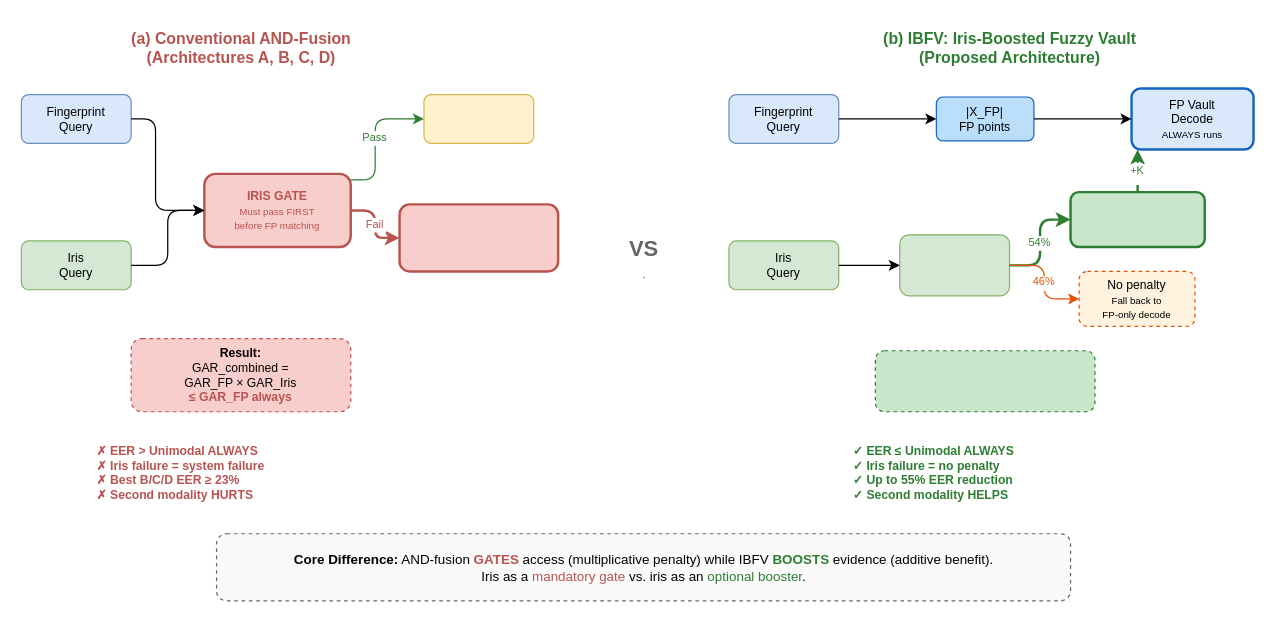
Image size: 1276x622. Some labels were removed from this diagram. The shapes that lost their labels are listed below. From the top down, each one's box as (x1, y1, x2, y2) in pixels, then its label:
(423, 93, 534, 143): FP Vault Decode
(398, 203, 559, 272): BLOCKED ~46% of genuine users rejected HERE
(1069, 190, 1205, 248): +K Bonus Guaranteed genuine polynomial points
(899, 234, 1010, 296): Iris Key Recovery (attempt)
(874, 350, 1095, 412): Result: GAR_IBFV ≥ GAR_Uni ≥ GAR_FP always
